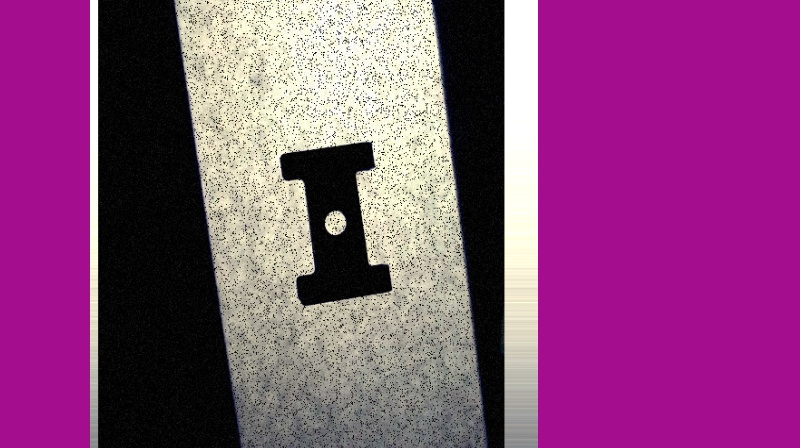O002: (278, 137, 392, 306)
